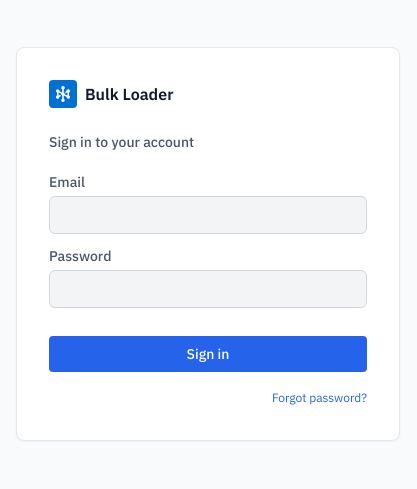
Test: Login page › shows error message on 401
The image size is (417, 489).
Type "alice@example.com" into the field labelled "Email" at (208,215), box [49,196,367,234]
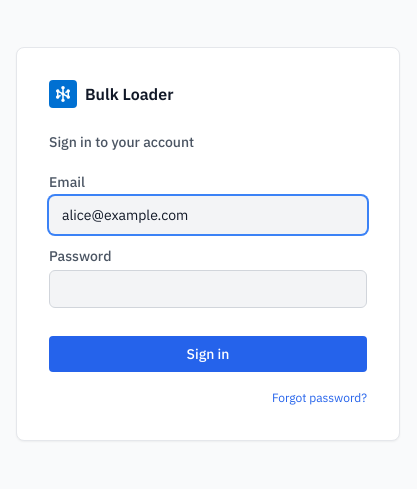
Type "wrongpass" into the password field labelled "Password" at (208,289), box [49,270,367,308]
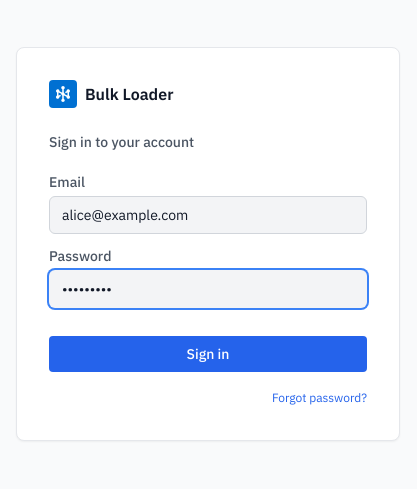
Click the button "Sign in" at (208,354), box [49,336,367,372]
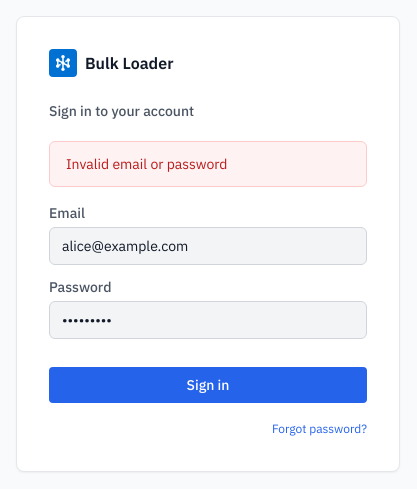
Expected: the message reads "Invalid email or password", [66,155,227,173]
